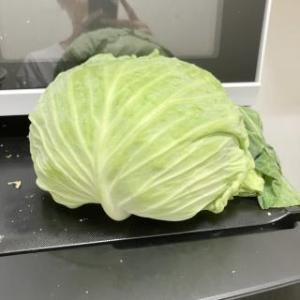cabbage: (26, 49, 300, 226)
